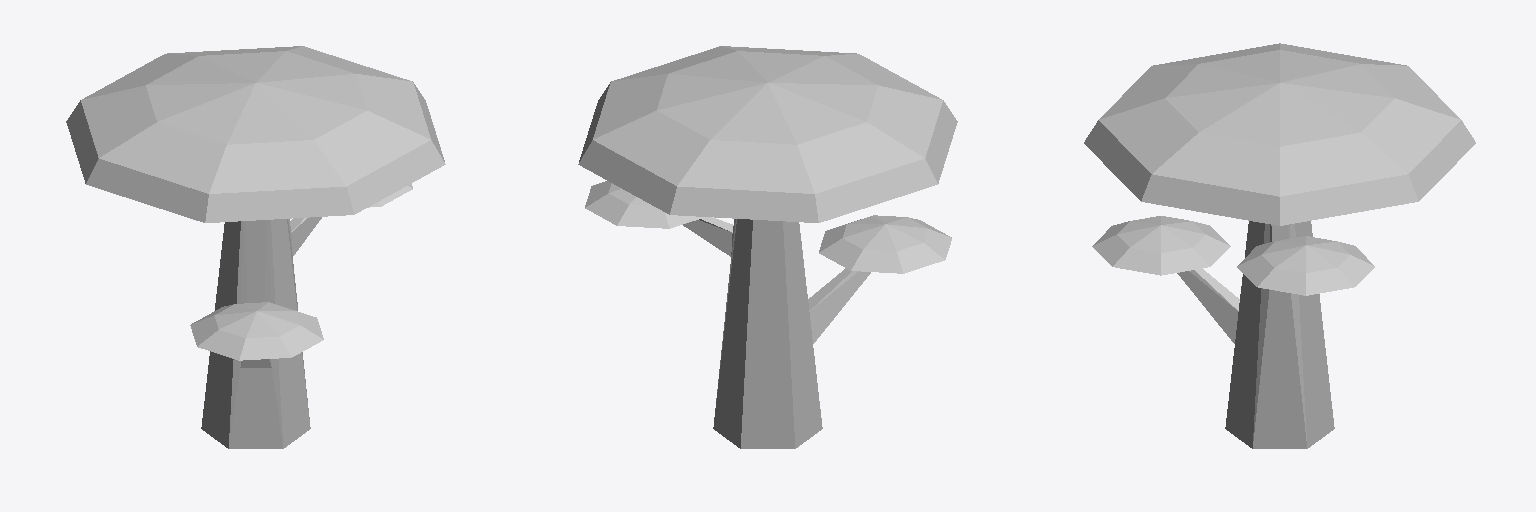
Rendered from WoWTGiantMushroom.obj.
3 renders of one model, left to right at view 1: azimuth 30°, elevation 25°; view 2: azimuth 150°, elevation 25°; view 3: azimuth 270°, elevation 25°, orthographic.
Parts seen in each view (by area): view 1: Sphere_Sphere.006; view 2: Sphere_Sphere.006; view 3: Sphere_Sphere.006.
Boxes of the visible parts, box(x1,y1,x2,y2) form: Sphere_Sphere.006: box(66, 46, 445, 448); Sphere_Sphere.006: box(578, 46, 957, 448); Sphere_Sphere.006: box(1084, 43, 1475, 448).
Bounding box in the file's own units: 2.07 × 2.01 × 2.07.